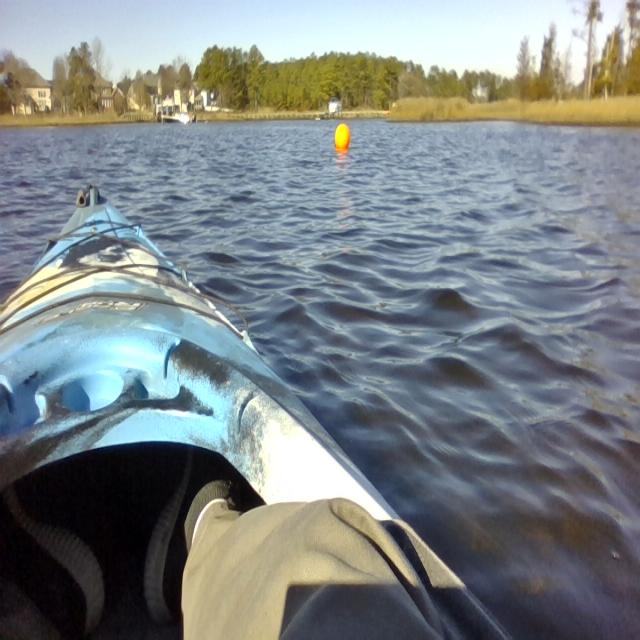Buoy: (331, 118, 354, 160)
